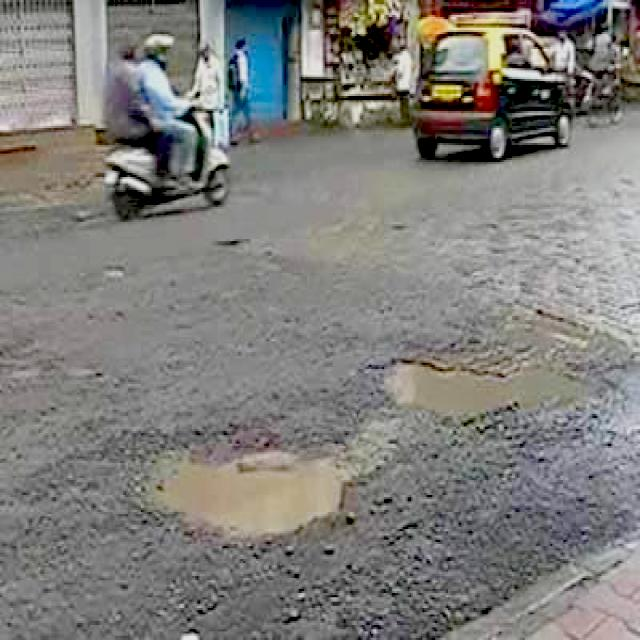Pothole: (125, 290, 630, 542)
